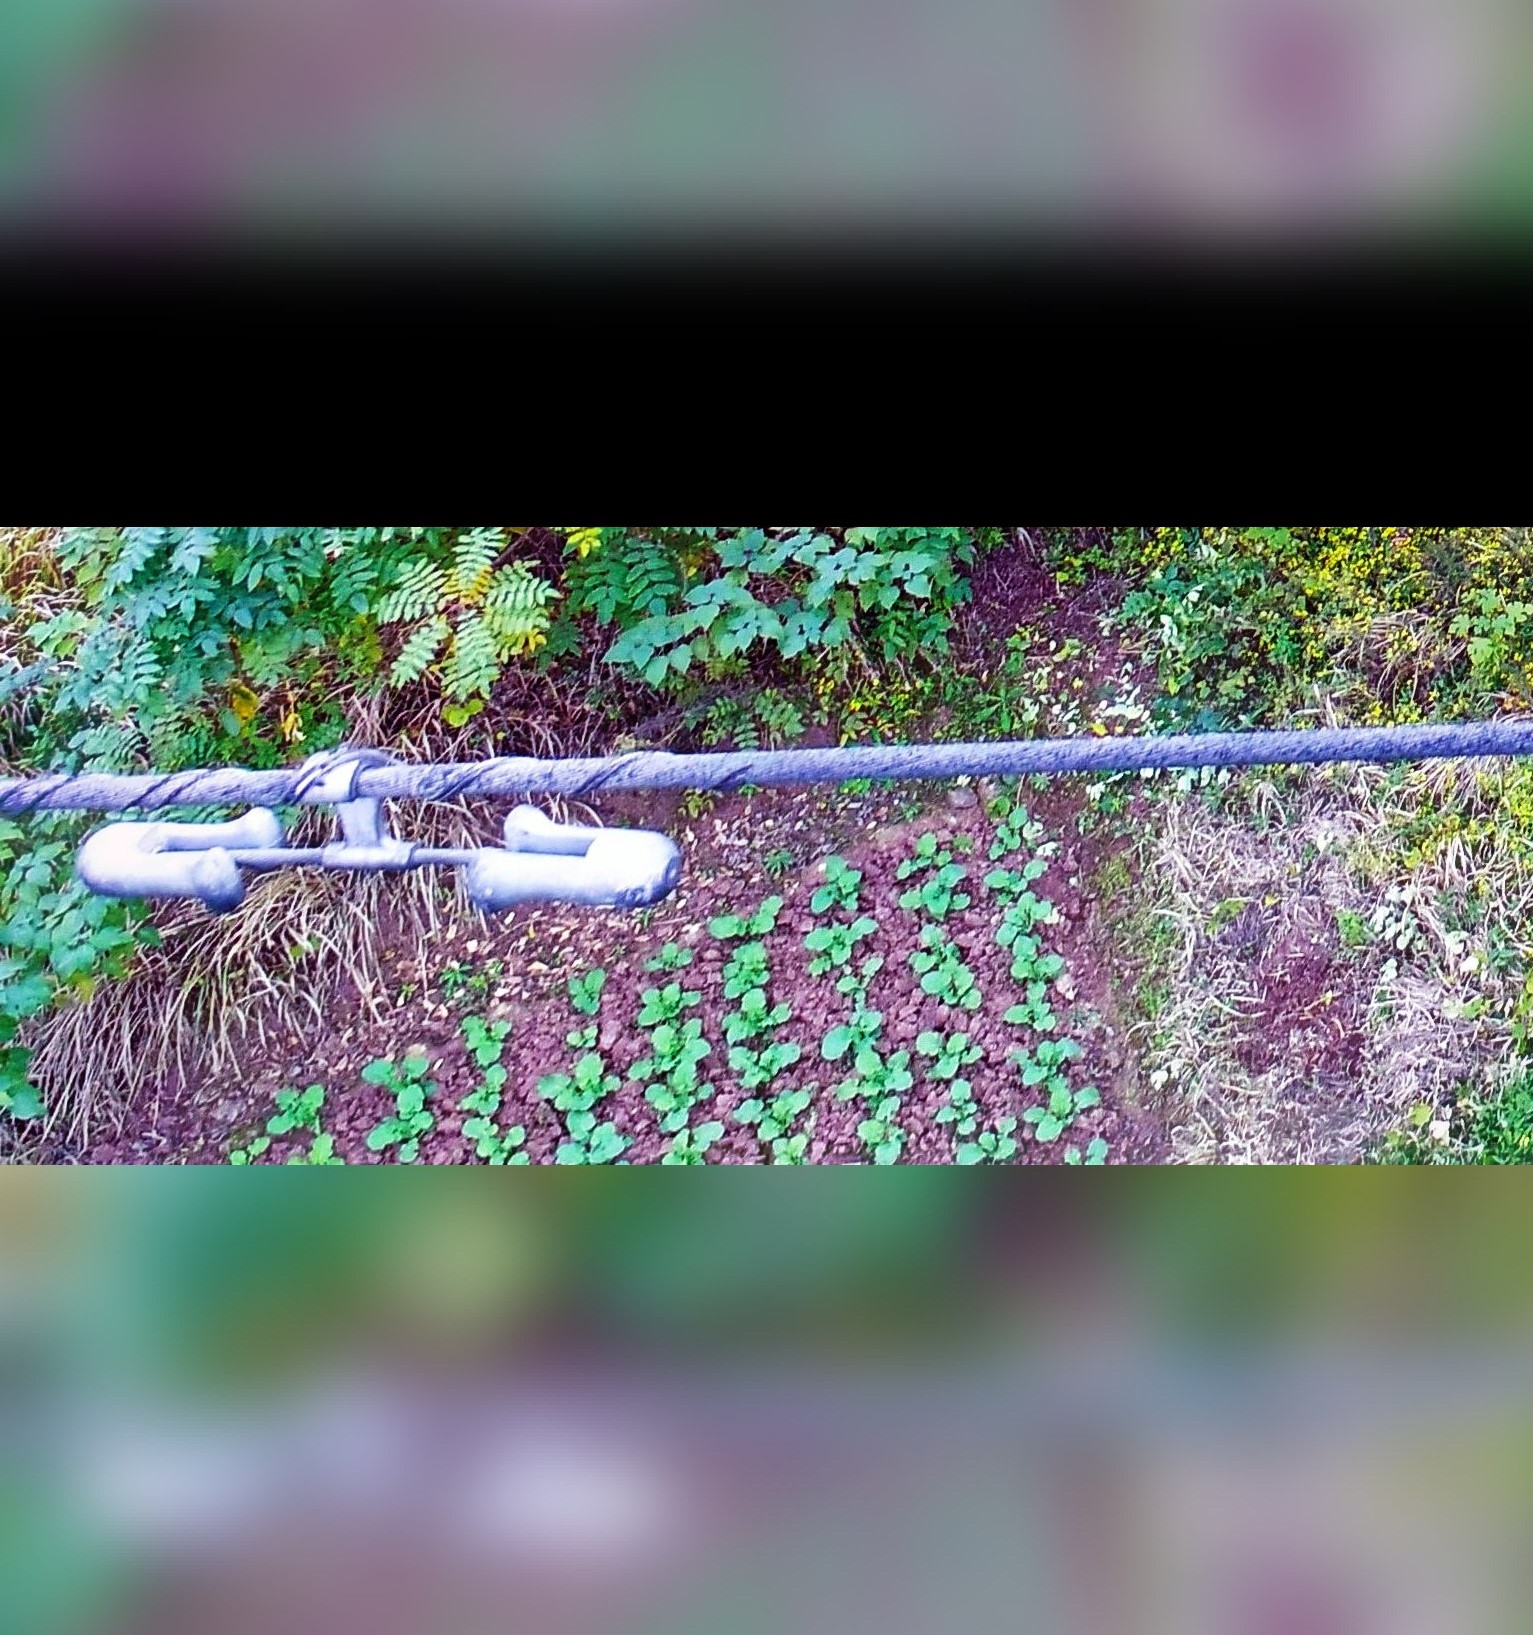Shockproof hammer: (65, 727, 697, 920)
